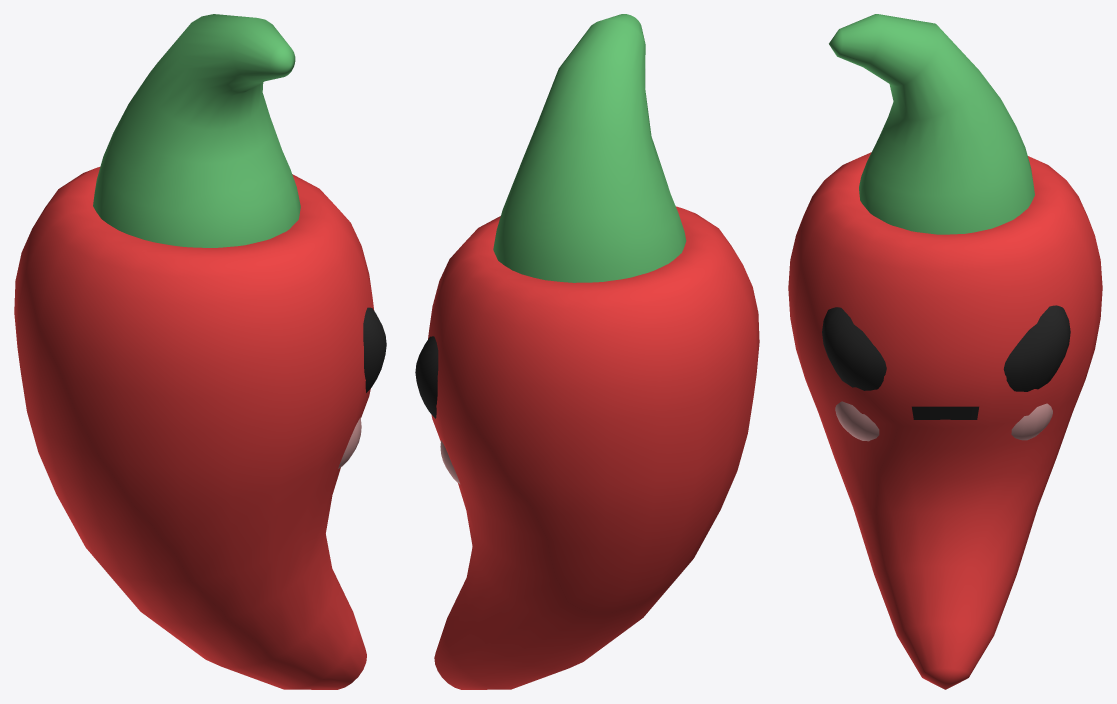
File: Pepper.fbx
The picture shows the model from 3 angles, left to right: view 1: azimuth 30°, elevation 25°; view 2: azimuth 150°, elevation 25°; view 3: azimuth 270°, elevation 25°; orthographic projection. The views are drawn at different scales.
Parts seen in each view (by area): view 1: PepperBase, PepperTop, PepperEyes; view 2: PepperBase, PepperTop, PepperEyes; view 3: PepperBase, PepperTop, PepperEyes, PepperBlush, PepperMouth.
Boxes of the visible parts, left/top/right/bottom form: PepperBase: left=14, top=167, right=374, bottom=689; PepperTop: left=93, top=14, right=300, bottom=247; PepperEyes: left=363, top=307, right=386, bottom=392; PepperBase: left=428, top=206, right=759, bottom=689; PepperTop: left=493, top=14, right=686, bottom=282; PepperEyes: left=415, top=336, right=438, bottom=418; PepperBase: left=788, top=152, right=1102, bottom=689; PepperTop: left=829, top=14, right=1034, bottom=234; PepperEyes: left=822, top=305, right=1070, bottom=391; PepperBlush: left=835, top=401, right=1052, bottom=441; PepperMouth: left=912, top=406, right=978, bottom=419.
Bounding box in the file's own units: 2.03 × 4.34 × 2.
